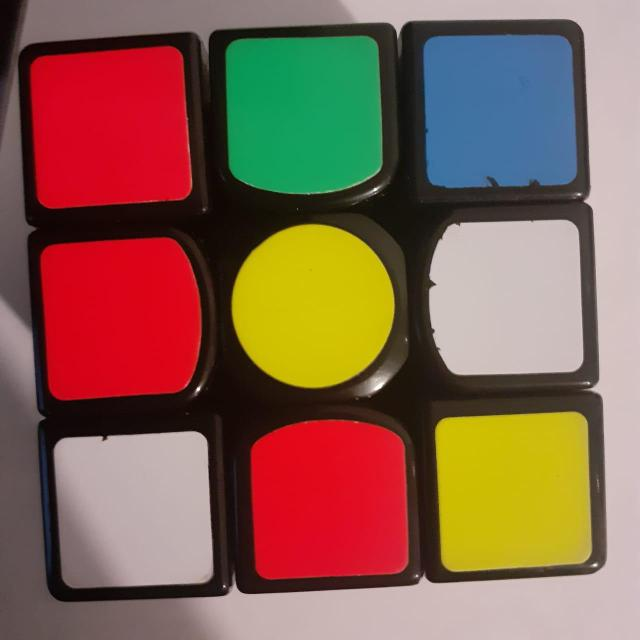Blue: (413, 26, 583, 190)
Green: (215, 31, 391, 200)
Red: (32, 240, 206, 406), (239, 423, 417, 585), (20, 50, 196, 202)
White: (42, 426, 220, 604), (416, 217, 594, 386)
Yellow: (225, 220, 402, 402)
